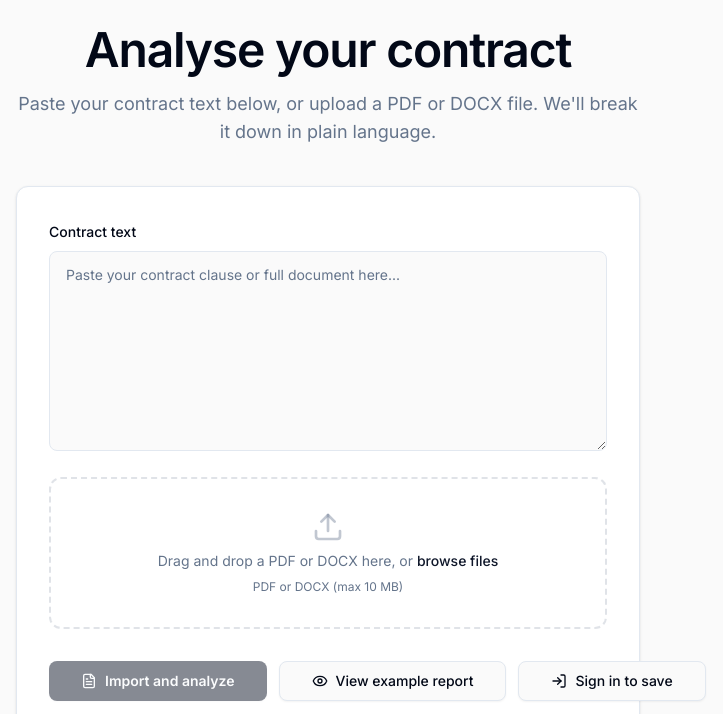
Test: Analyze page — truncated document gating › shows plain-English warning text for truncated documents
The image size is (723, 714).
Type "some contract text" into the text box with placeholder "Paste your contract clause or full document here...".
click(328, 351); type("some contract text")  # box [49, 251, 607, 451]
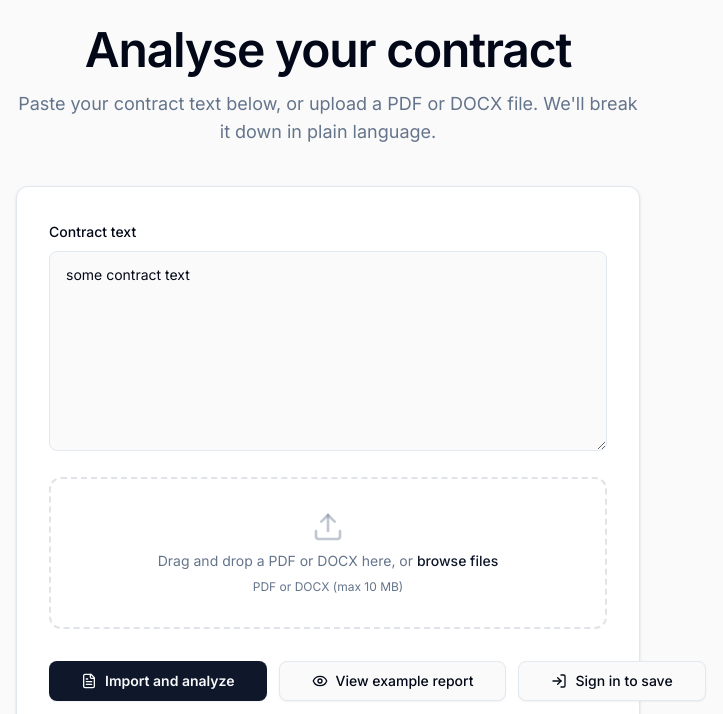
Click the button "Import and analyze".
click(158, 681)  # box [49, 661, 266, 701]
(page scrolled)
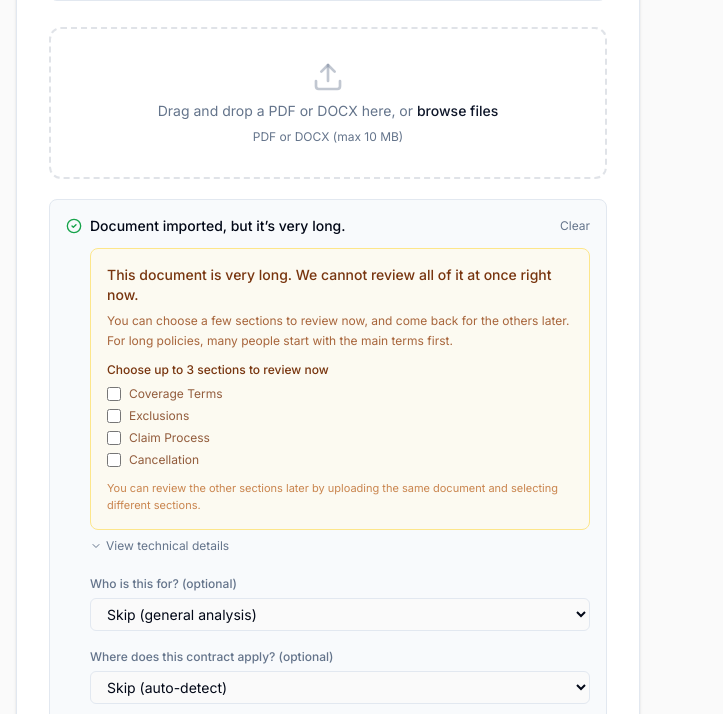
Now the text "Document imported, but it’s very long." is shown, box [90, 216, 346, 236]
Now the text "This document is very long" is shown, box [107, 266, 552, 303]
Now the text "choose a few sections to review now" is shown, box [107, 313, 569, 348]
